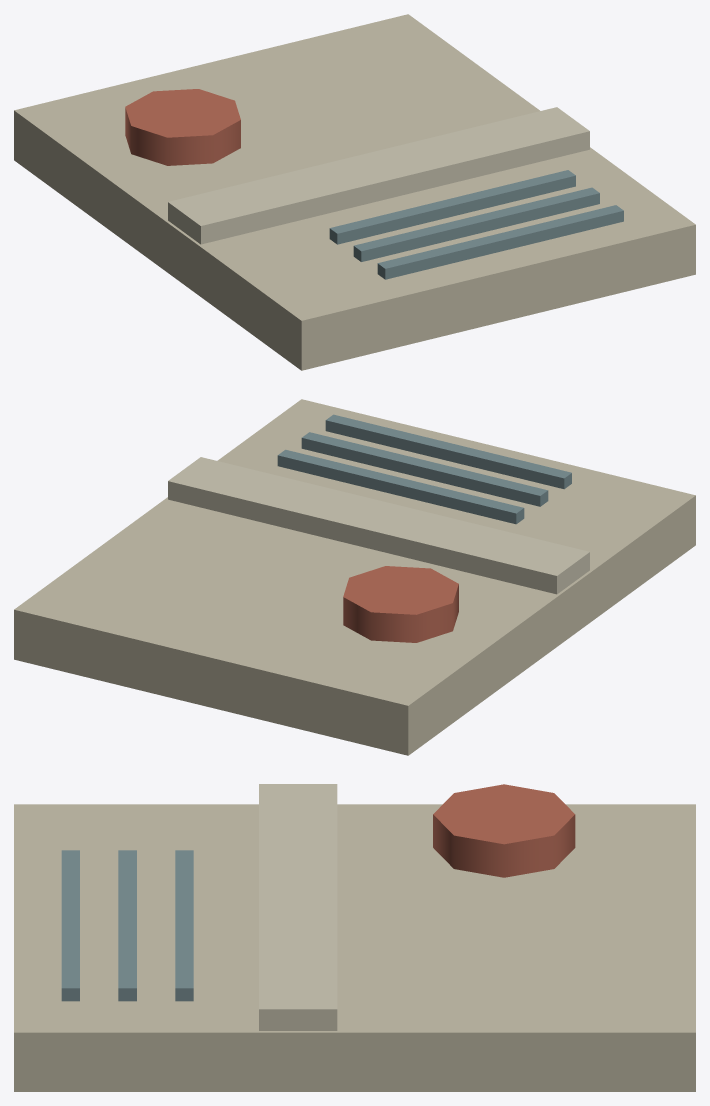
Rendered from spread-portable-pruningwrit.fbx.
3 views of the same model, one above another, from view 1: azimuth 30°, elevation 25°; view 2: azimuth 150°, elevation 25°; view 3: azimuth 270°, elevation 25° (orthographic). The views are drawn at different scales.
Parts seen in each view (by area): view 1: spread-portable-pruningwrit__Geometry; view 2: spread-portable-pruningwrit__Geometry; view 3: spread-portable-pruningwrit__Geometry.
Boxes of the visible parts, <box> form: spread-portable-pruningwrit__Geometry: <box>14,14,695,370</box>; spread-portable-pruningwrit__Geometry: <box>14,399,695,755</box>; spread-portable-pruningwrit__Geometry: <box>14,784,695,1091</box>.
Size of the model in its own units: 0.38 by 0.078 by 0.48.
